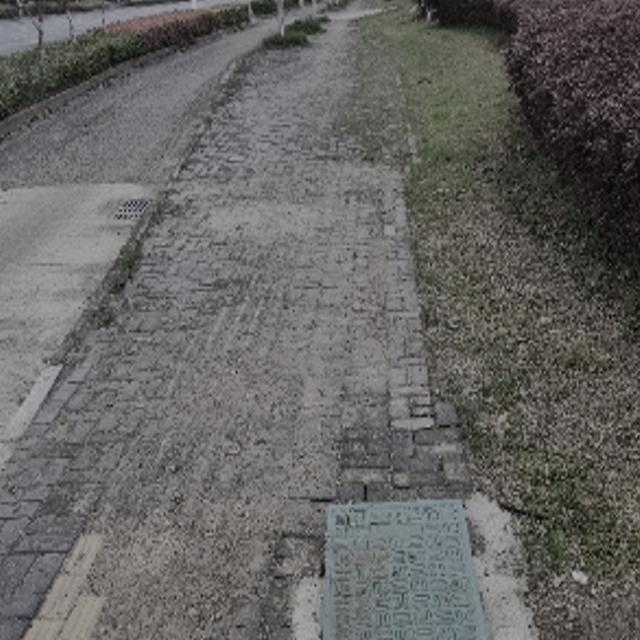uncovered: (293, 468, 520, 640)
